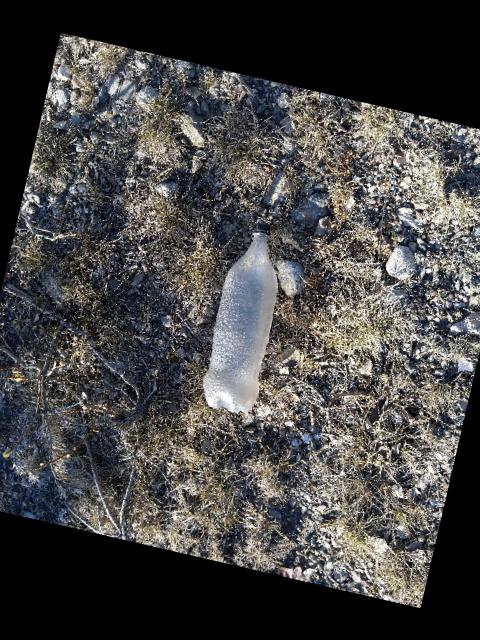plastic: (201, 230, 276, 412)
